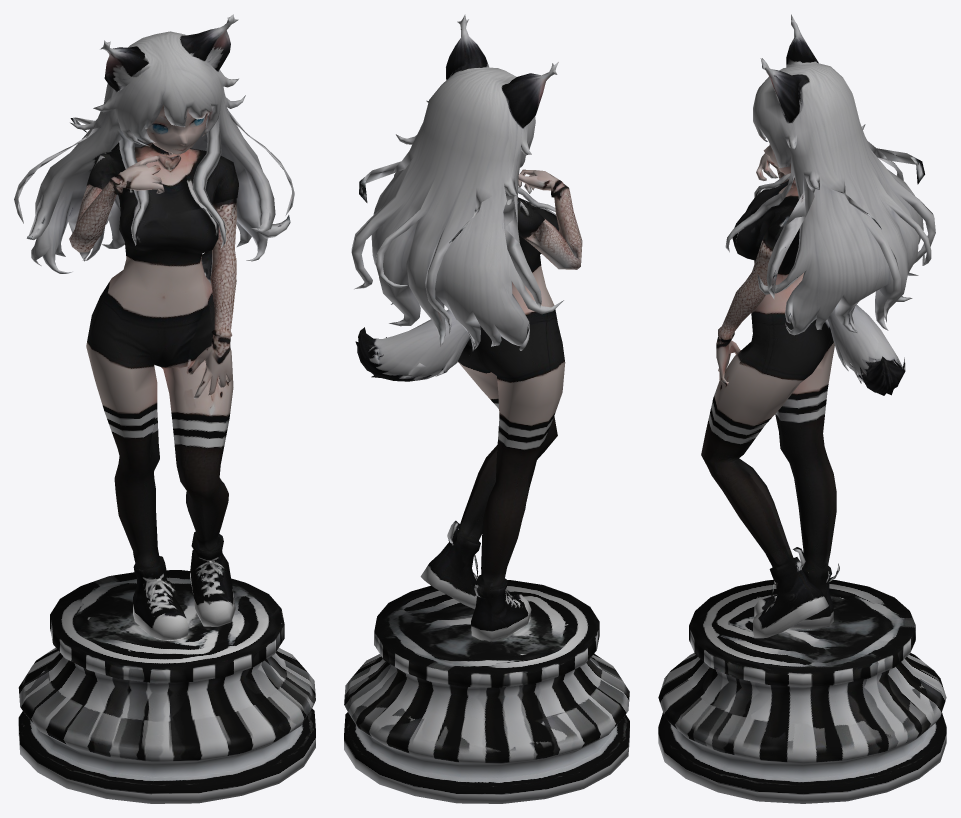
The model's file is Lusty_Lynx_Knight.glb.
3 views of the same model, side by side, from view 1: azimuth 30°, elevation 25°; view 2: azimuth 150°, elevation 25°; view 3: azimuth 270°, elevation 25° (orthographic). The views are drawn at different scales.
Visible parts, largest first — view 1: tripo_node_ede62444-143d-4d5b-af97-0b15cf15fb82; view 2: tripo_node_ede62444-143d-4d5b-af97-0b15cf15fb82; view 3: tripo_node_ede62444-143d-4d5b-af97-0b15cf15fb82.
Part boxes in pixels (box(x1,y1,x2,y2)): tripo_node_ede62444-143d-4d5b-af97-0b15cf15fb82: box(14, 14, 315, 803); tripo_node_ede62444-143d-4d5b-af97-0b15cf15fb82: box(344, 14, 629, 803); tripo_node_ede62444-143d-4d5b-af97-0b15cf15fb82: box(658, 14, 946, 803).
Size of the model in its own units: 0.3691 by 0.998 by 0.3691.
1 material, 1 textured.
